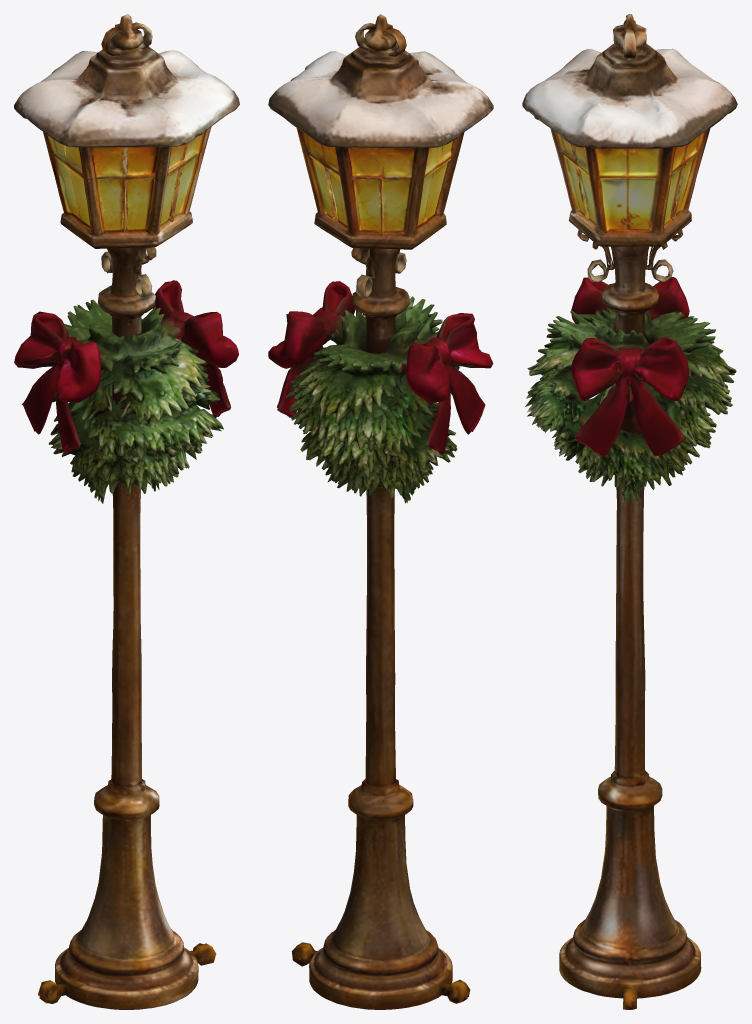
The model's file is christmas-lantern-winter.glb.
3 renders of one model, left to right at view 1: azimuth 30°, elevation 25°; view 2: azimuth 150°, elevation 25°; view 3: azimuth 270°, elevation 25°, orthographic.
Visible parts, largest first — view 1: tripo_node_470e4e42-fda2-4ca8-8705-1598f533c847; view 2: tripo_node_470e4e42-fda2-4ca8-8705-1598f533c847; view 3: tripo_node_470e4e42-fda2-4ca8-8705-1598f533c847.
Boxes of the visible parts, left/top/right/bottom form: tripo_node_470e4e42-fda2-4ca8-8705-1598f533c847: left=14, top=14, right=239, bottom=1009; tripo_node_470e4e42-fda2-4ca8-8705-1598f533c847: left=268, top=14, right=493, bottom=1009; tripo_node_470e4e42-fda2-4ca8-8705-1598f533c847: left=522, top=14, right=737, bottom=1009.
Bounding box in the file's own units: 0.1934 × 0.9844 × 0.2006.
1 material, 1 textured.
